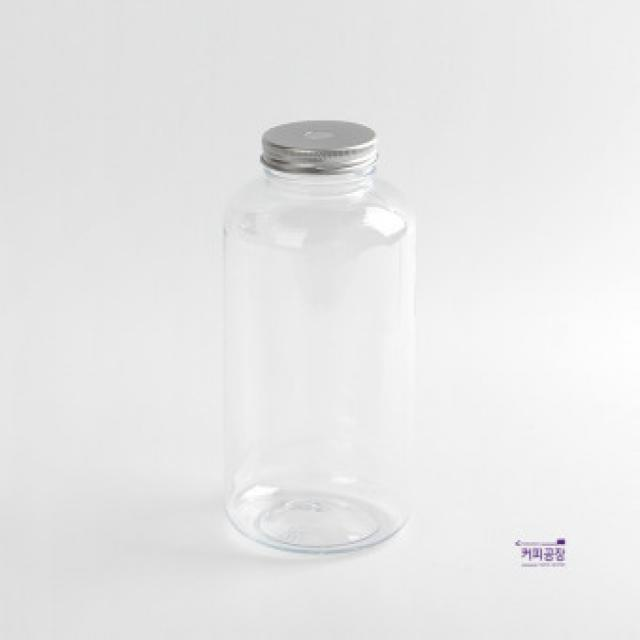plastic bottle: (222, 120, 418, 558)
